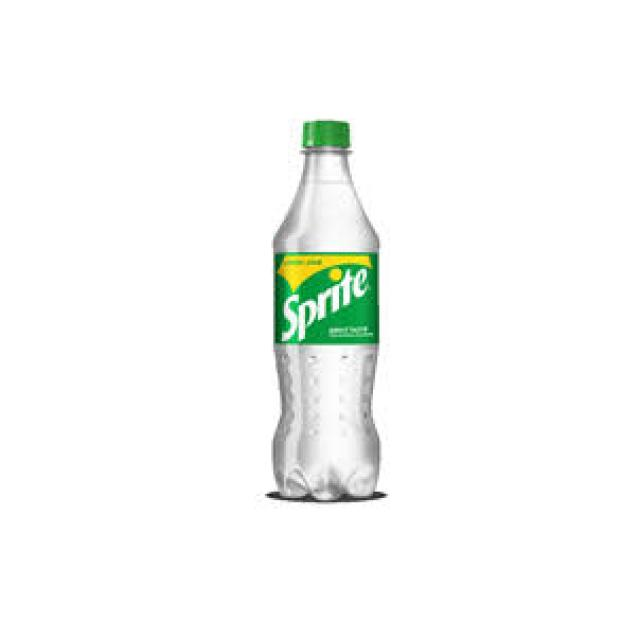plastic: (251, 107, 413, 516)
